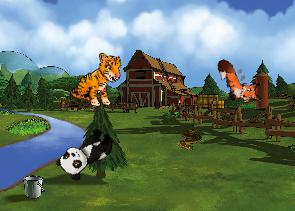fox: (214, 50, 265, 111)
panda: (53, 121, 119, 184)
tiger: (70, 49, 124, 110)
